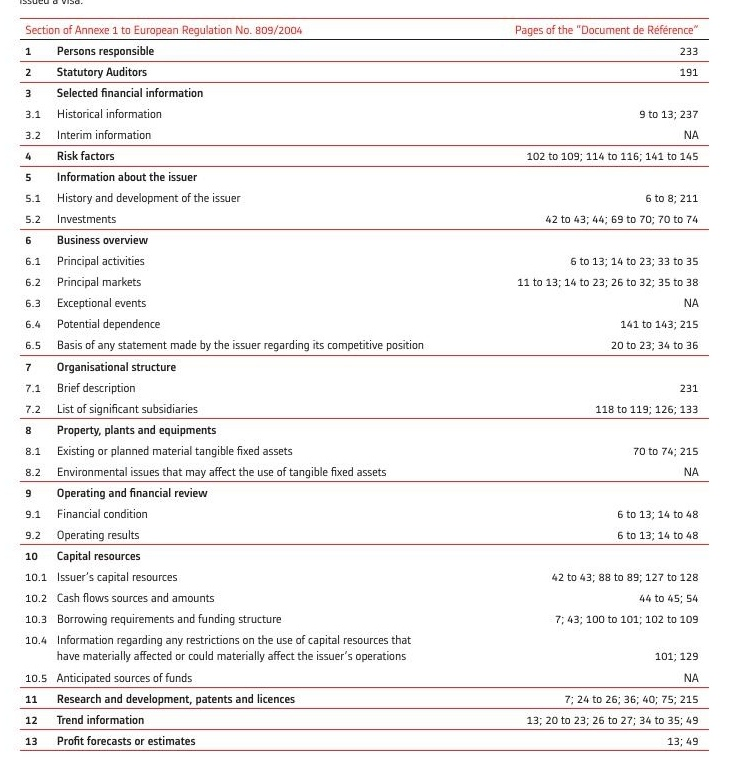table: (0, 0, 729, 768)
